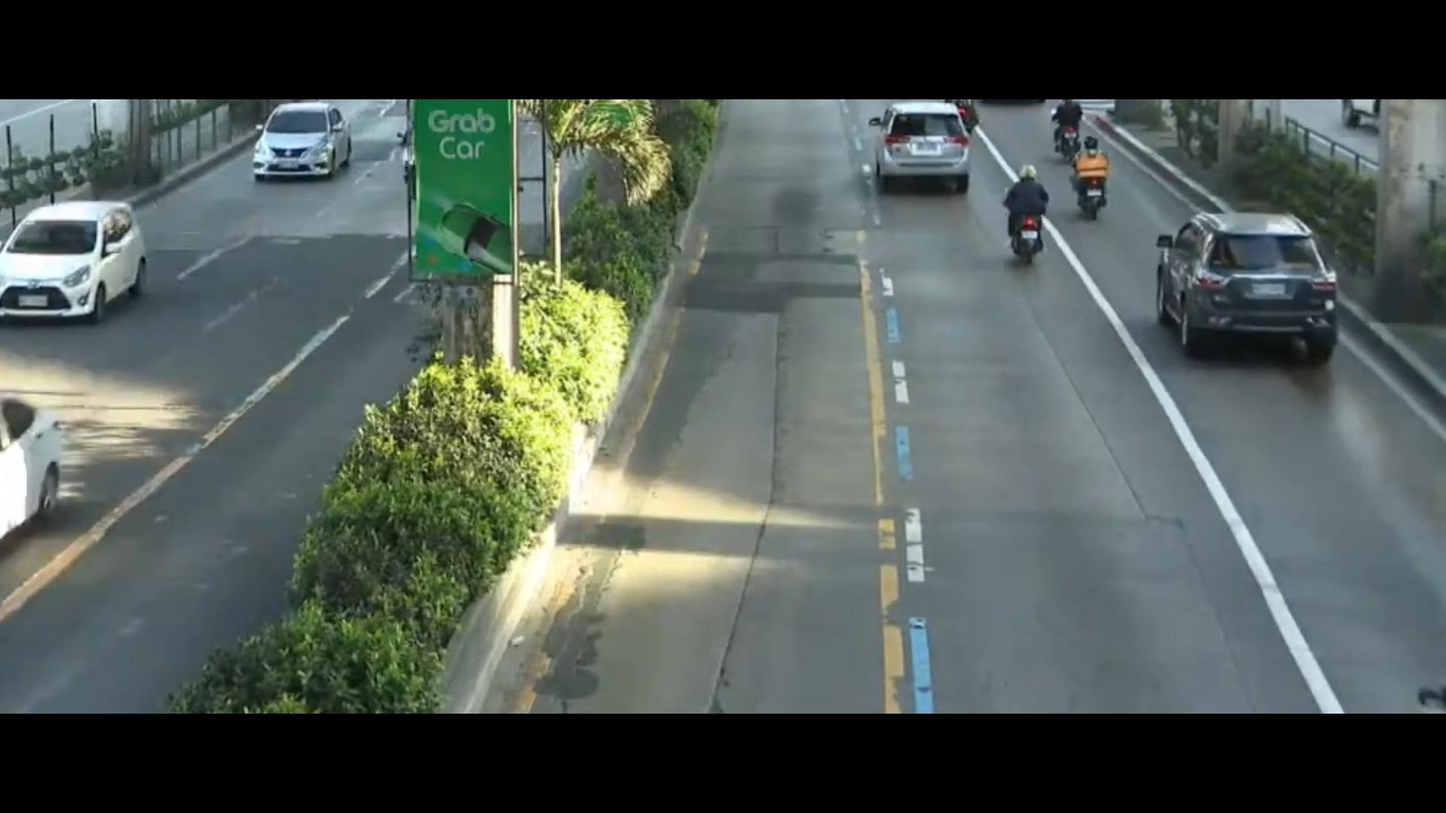Motorcycle: (960, 158, 1059, 273), (1058, 147, 1124, 230), (1036, 100, 1089, 166)
SUV: (1126, 196, 1340, 352), (0, 194, 149, 319), (844, 96, 987, 208), (254, 104, 359, 181)
